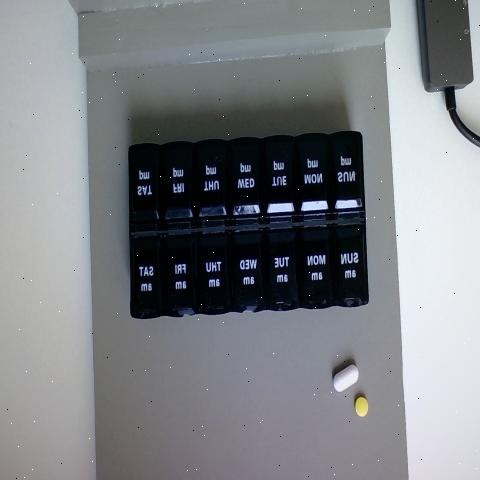FRI-am: (168, 234, 198, 318)
FRI-pm: (161, 144, 193, 226)
MON-am: (298, 226, 331, 306)
MON-pm: (297, 138, 329, 215)
Pill: (328, 353, 362, 401), (350, 388, 376, 424)
PillBox: (110, 109, 378, 337)
SAT-am: (130, 237, 164, 322)
SAT-pm: (130, 142, 162, 234)
SUN-am: (333, 221, 367, 306)
SUN-pm: (332, 135, 364, 211)
THU-am: (199, 231, 232, 317)
THU-pm: (198, 145, 225, 221)
TUE-am: (264, 231, 297, 310)
TUE-pm: (263, 138, 294, 216)
WED-am: (233, 230, 264, 314)
WED-pm: (231, 145, 260, 221)
